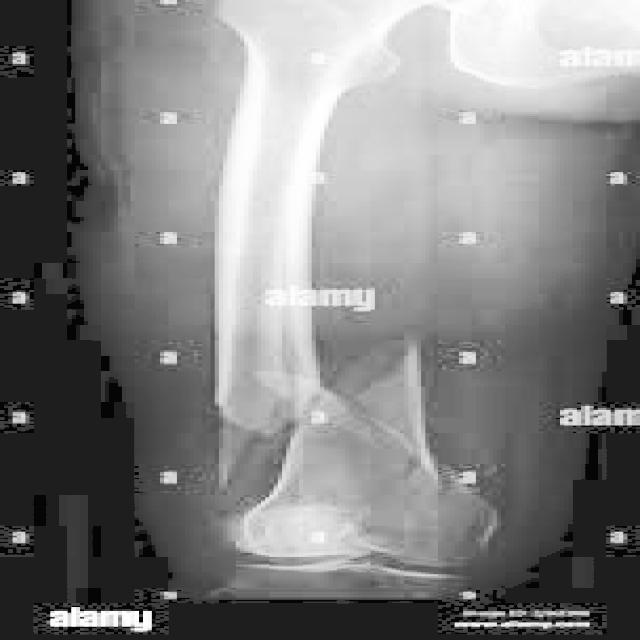Comminuted Fracture: (200, 383, 326, 544)
